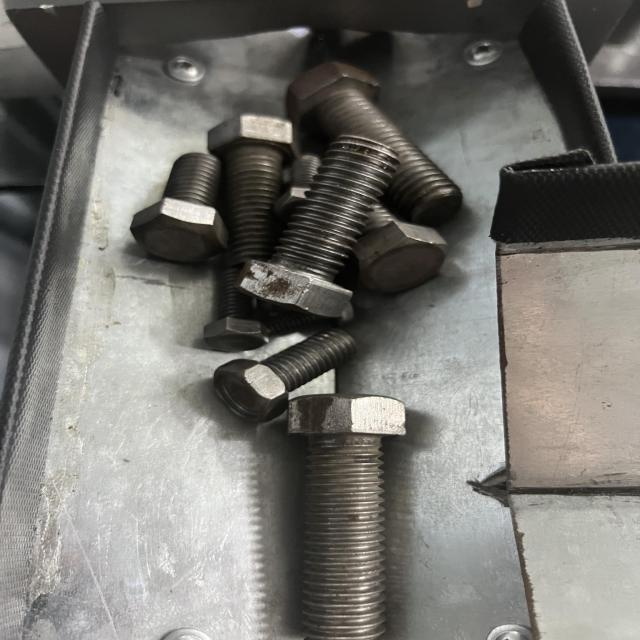bolt: (282, 396, 406, 640), (235, 136, 401, 318), (214, 330, 358, 424)
